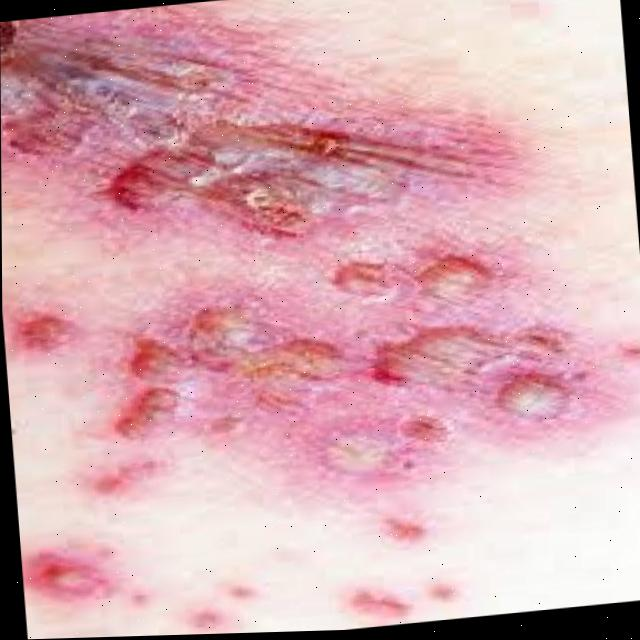Shingles: (0, 11, 592, 602)
